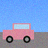vehicle: (3, 23, 34, 43)
